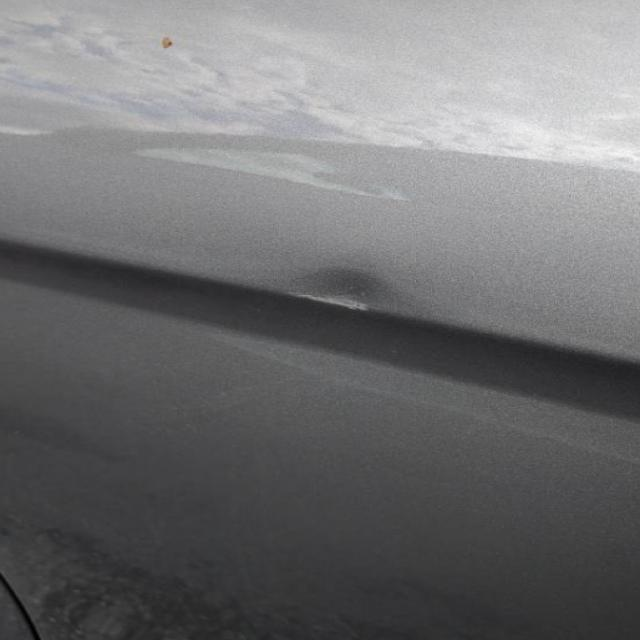dents: (275, 238, 431, 360)
